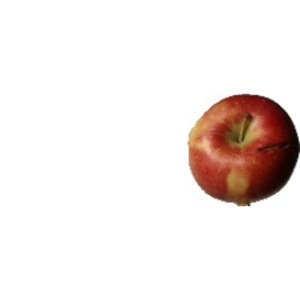maçã braeburn: (186, 92, 299, 206)
